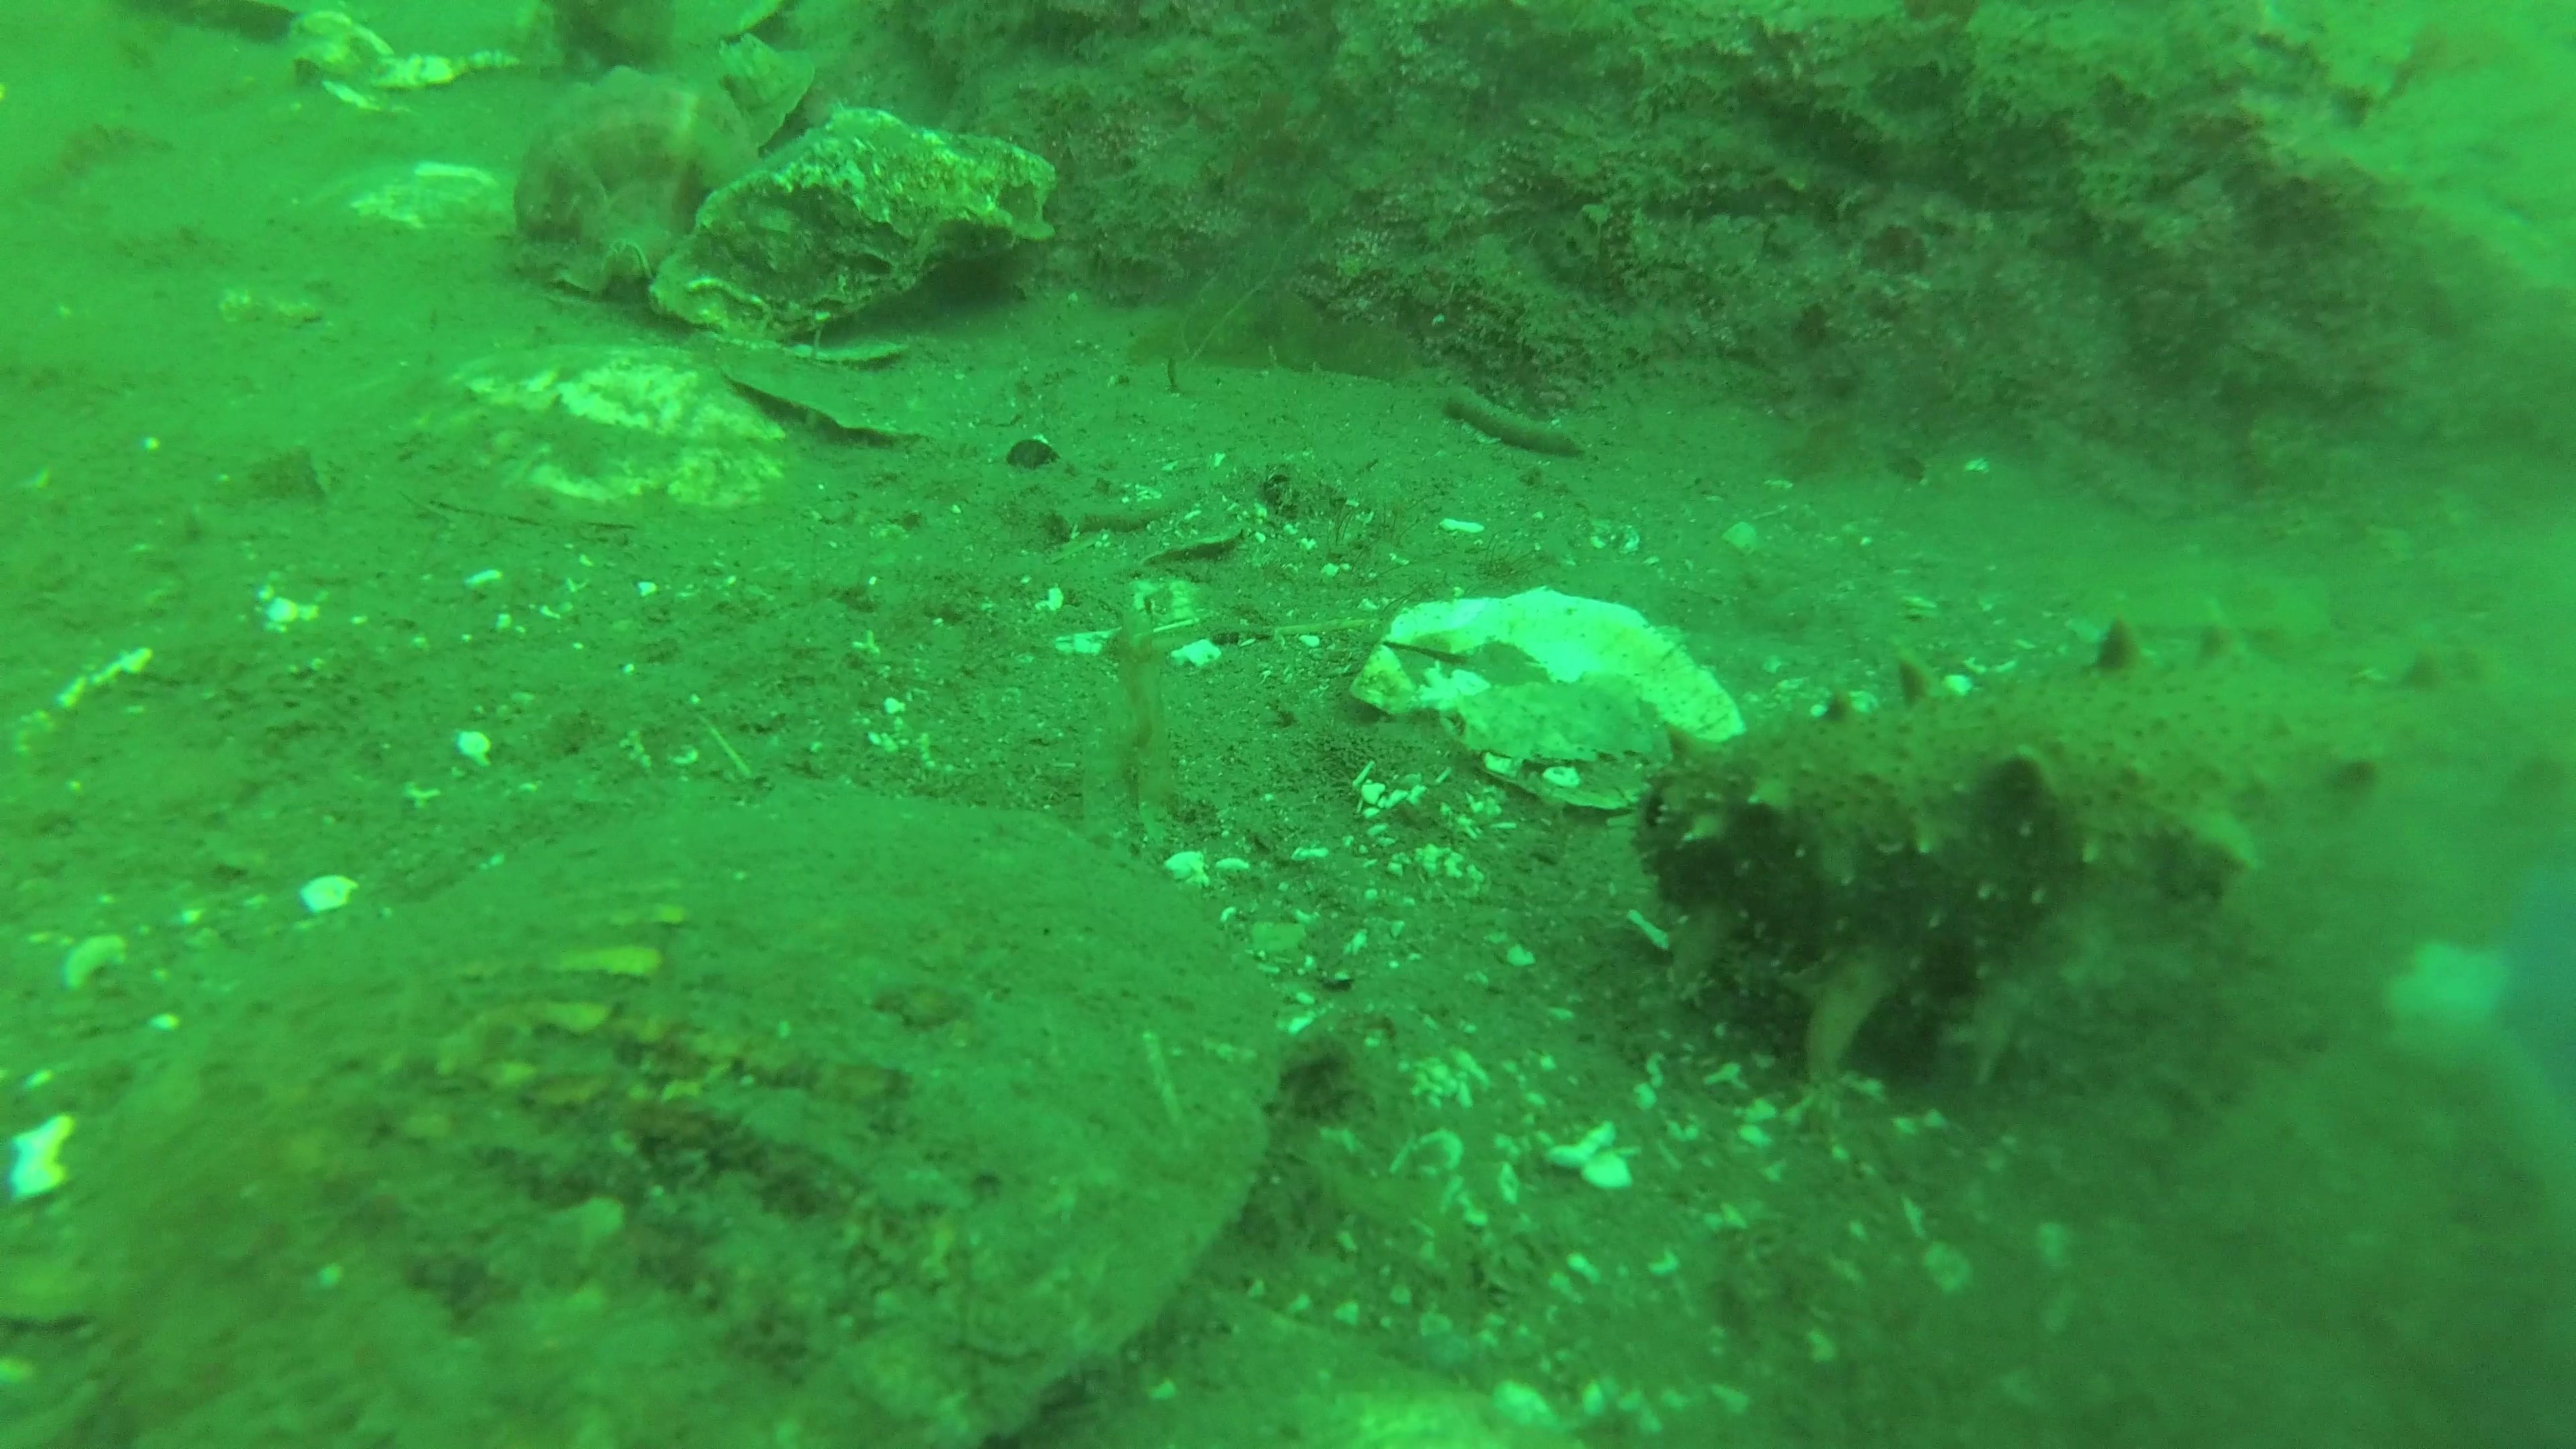holothurian: (1640, 602, 2560, 1079)
scallop: (58, 778, 1284, 1449), (405, 331, 805, 536)
